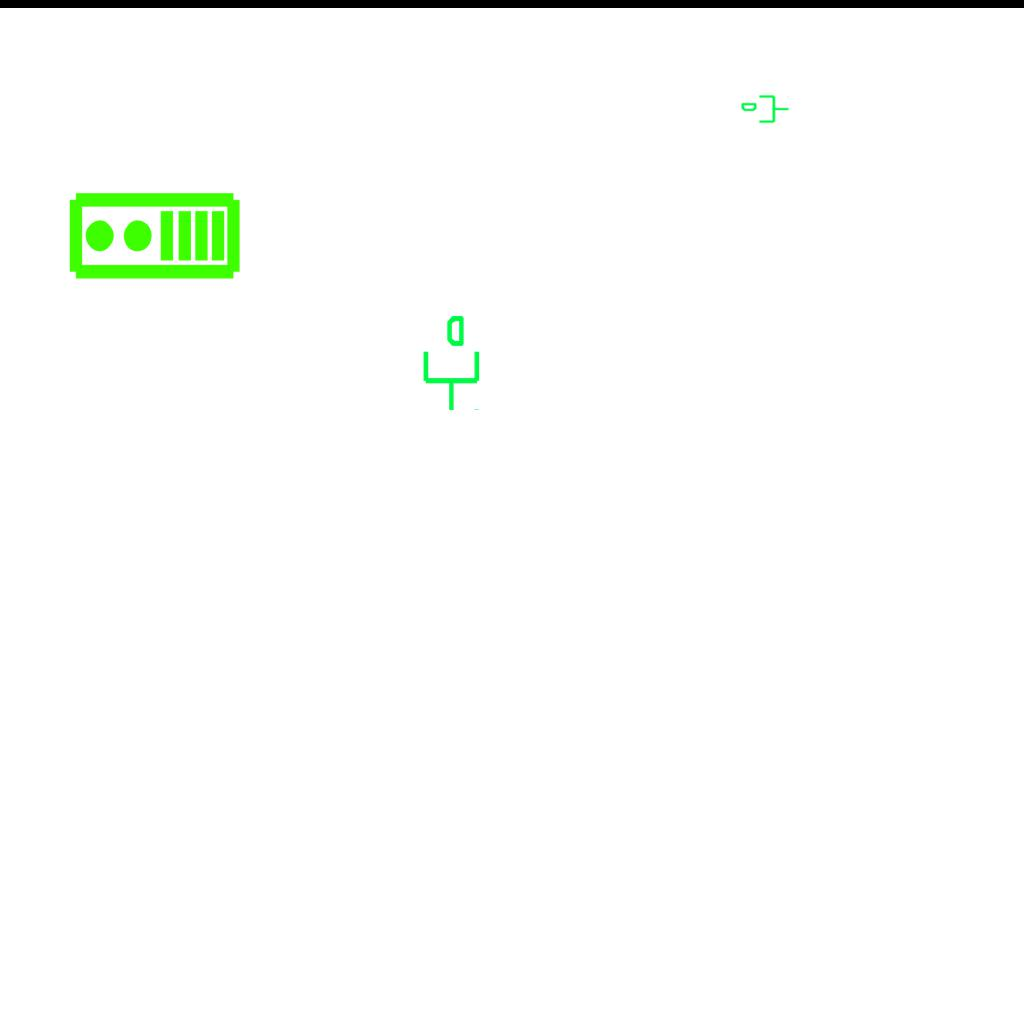Datenanschluss_einfach: (415, 313, 484, 413), (740, 93, 790, 127)
Gegensprechanlage_mit_Video: (66, 190, 242, 285)
